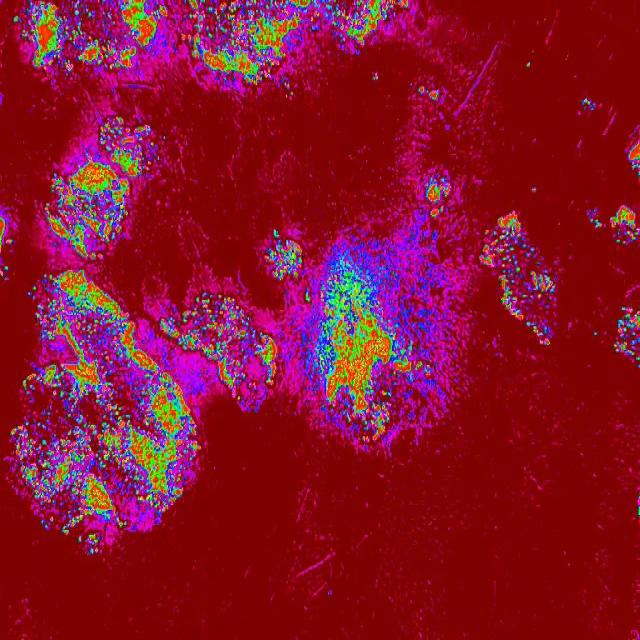fire: (10, 264, 159, 556), (262, 227, 448, 451), (42, 114, 162, 262), (176, 0, 322, 101), (160, 289, 264, 425), (13, 0, 170, 80), (481, 210, 556, 350), (322, 0, 412, 54), (159, 426, 203, 522), (611, 303, 640, 371), (421, 176, 455, 216), (612, 202, 640, 248), (0, 208, 13, 282), (584, 206, 606, 230), (416, 84, 440, 104), (628, 140, 640, 180), (578, 98, 598, 116), (370, 71, 379, 85), (637, 496, 640, 523), (532, 184, 538, 196), (592, 330, 598, 340), (525, 60, 531, 68)
